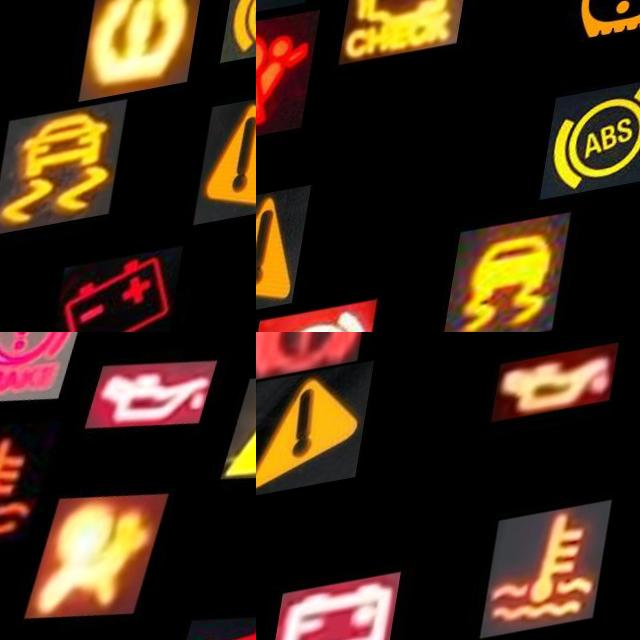Central Warning lamp: (256, 368, 385, 502), (256, 195, 320, 325), (202, 107, 256, 237), (226, 375, 256, 508)
Engine cooling system: (501, 518, 629, 640), (0, 412, 69, 564)
